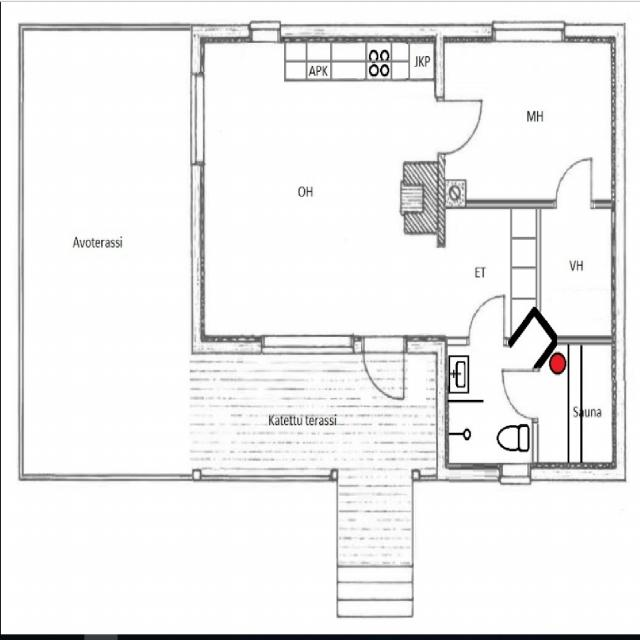door: (362, 336, 404, 409), (434, 100, 484, 154), (469, 288, 504, 344), (557, 151, 591, 206), (498, 372, 538, 418)
